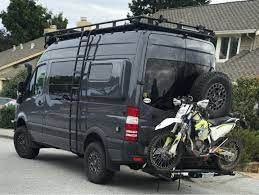Bus: (14, 25, 230, 182)
Motorbike: (148, 99, 242, 173)
